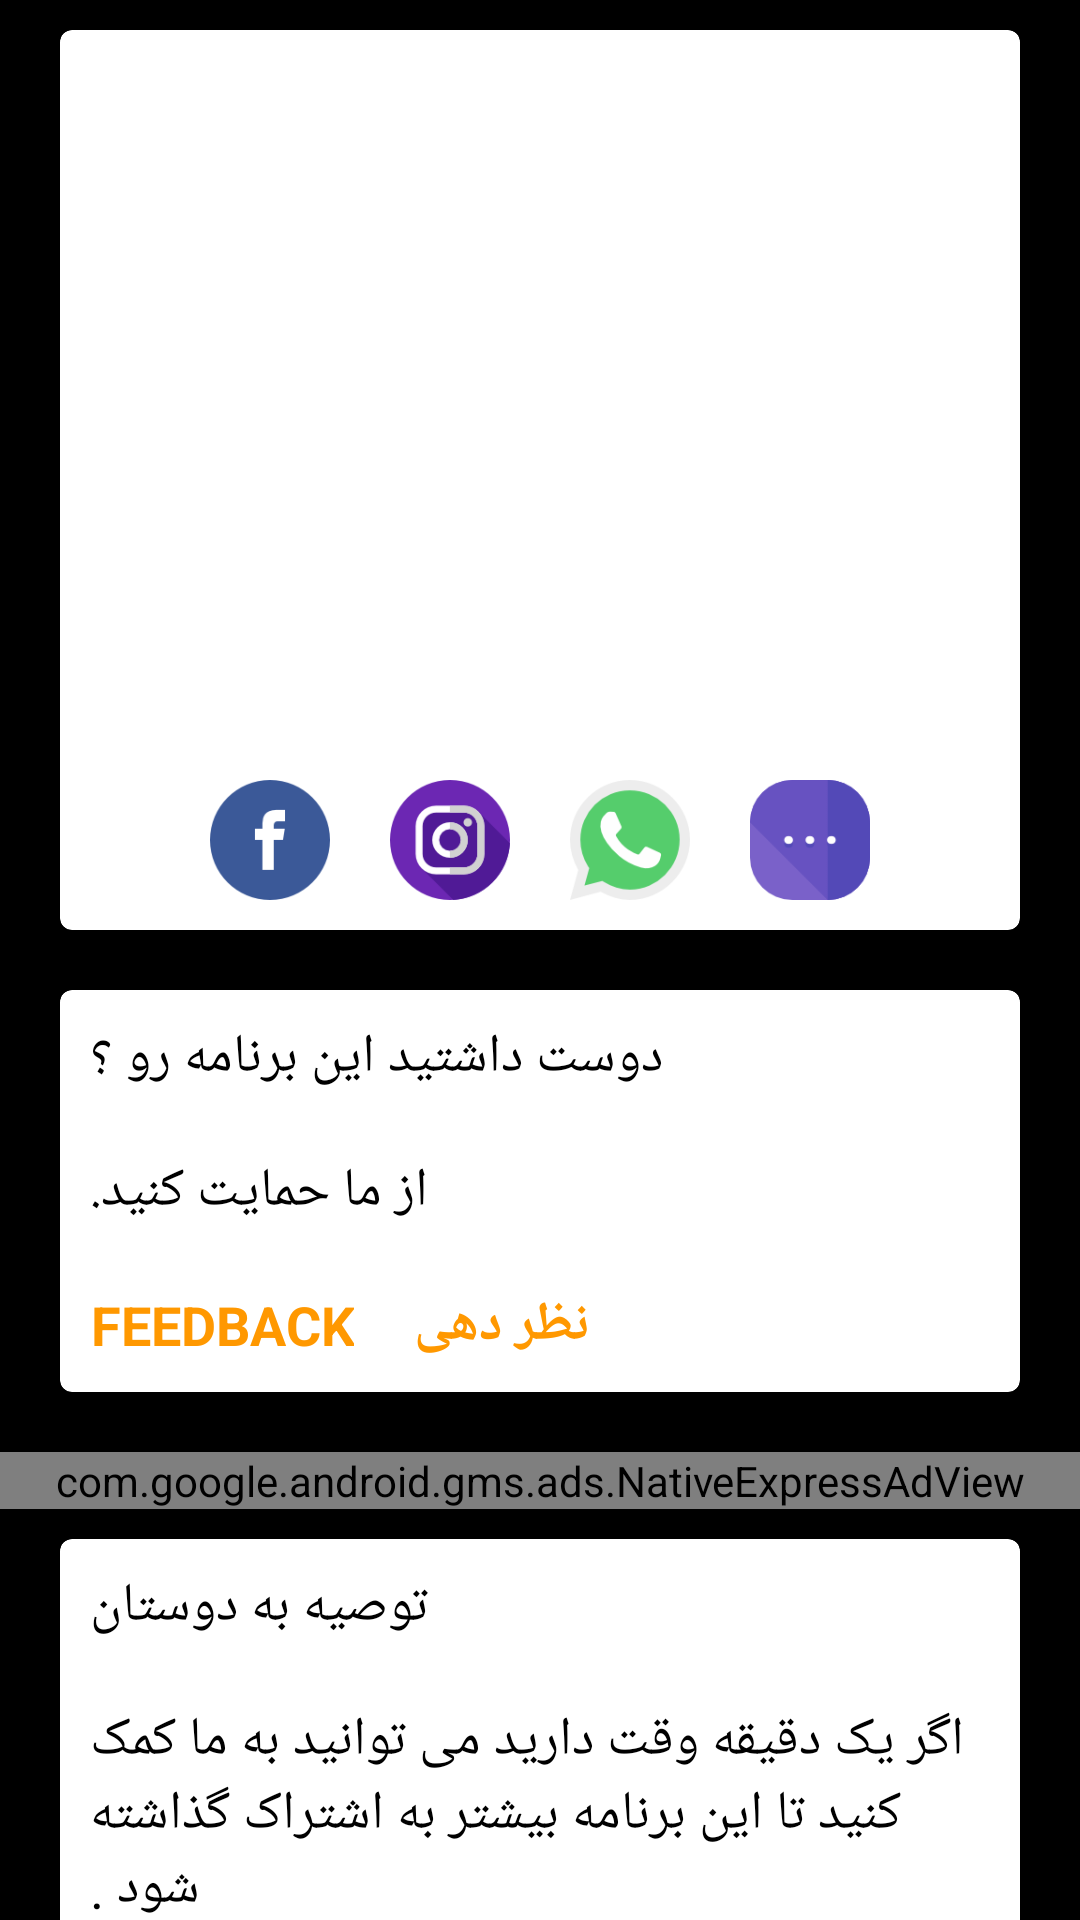

Where to tap for icons on this 1080*1920 app screen, as [x,y]:
more: [810,840]
